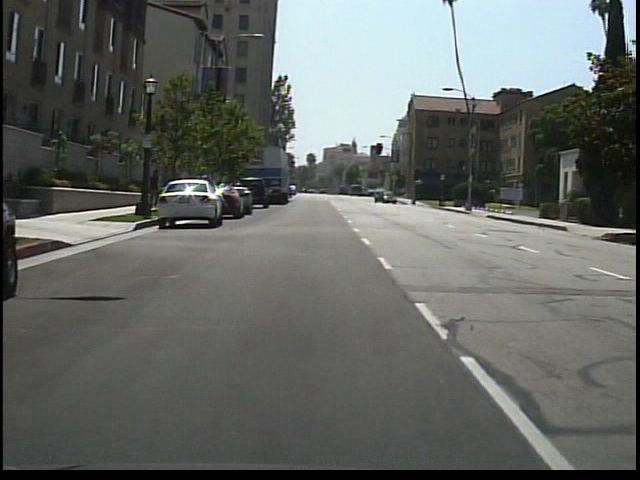person: (146, 166, 165, 213)
